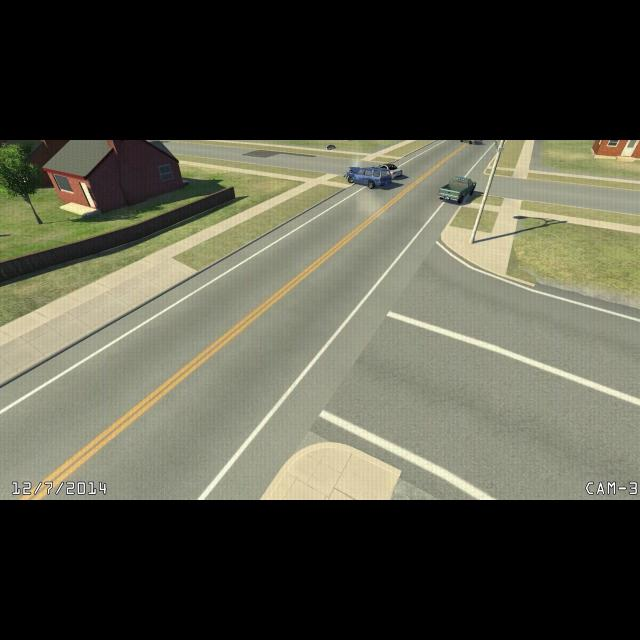accident: (342, 161, 408, 190)
